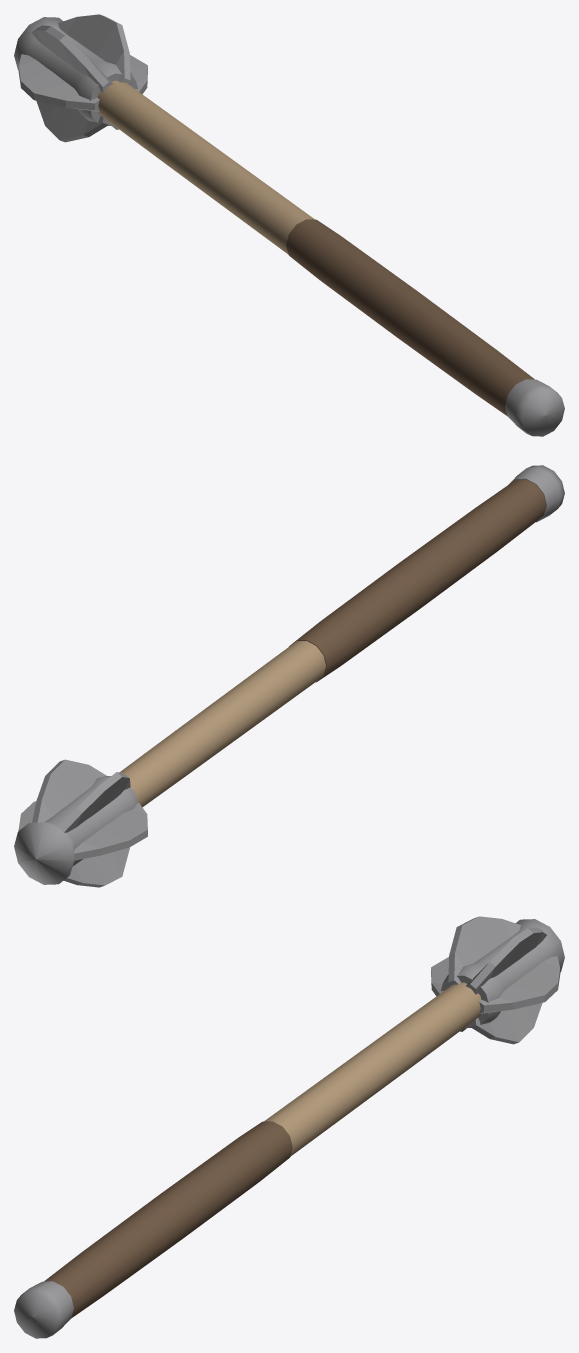
File: FlangedMace.fbx
The picture shows the model from 3 angles, top to bottom: view 1: azimuth 30°, elevation 25°; view 2: azimuth 150°, elevation 25°; view 3: azimuth 330°, elevation 25°; orthographic projection.
Parts seen in each view (by area): view 1: FlangedMace; view 2: FlangedMace; view 3: FlangedMace.
Boxes of the visible parts, x1=… form: FlangedMace: x1=14, y1=14, x2=564, y2=436; FlangedMace: x1=14, y1=465, x2=564, y2=887; FlangedMace: x1=14, y1=916, x2=564, y2=1338.
Bounding box in the file's own units: 0.084 × 0.0752 × 0.65.
